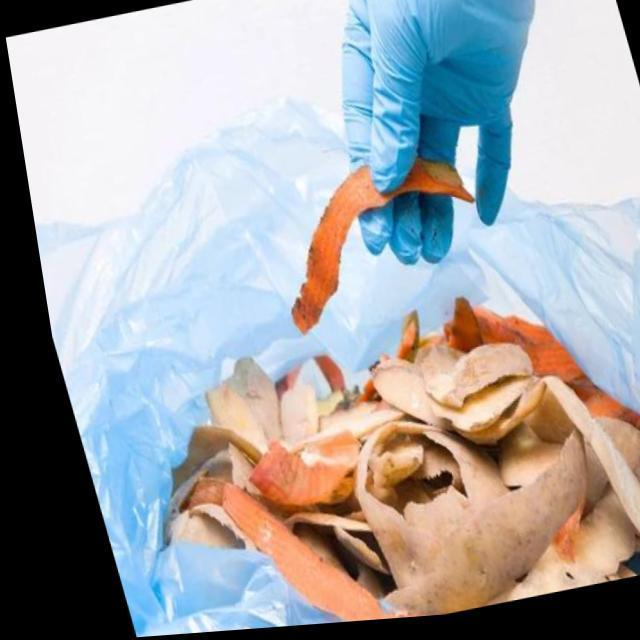Garbage: (153, 314, 640, 625)
